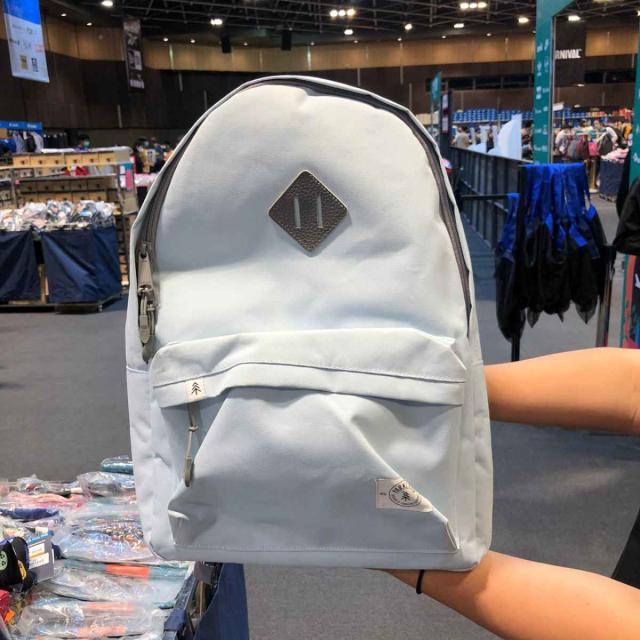bag: (120, 72, 510, 586)
